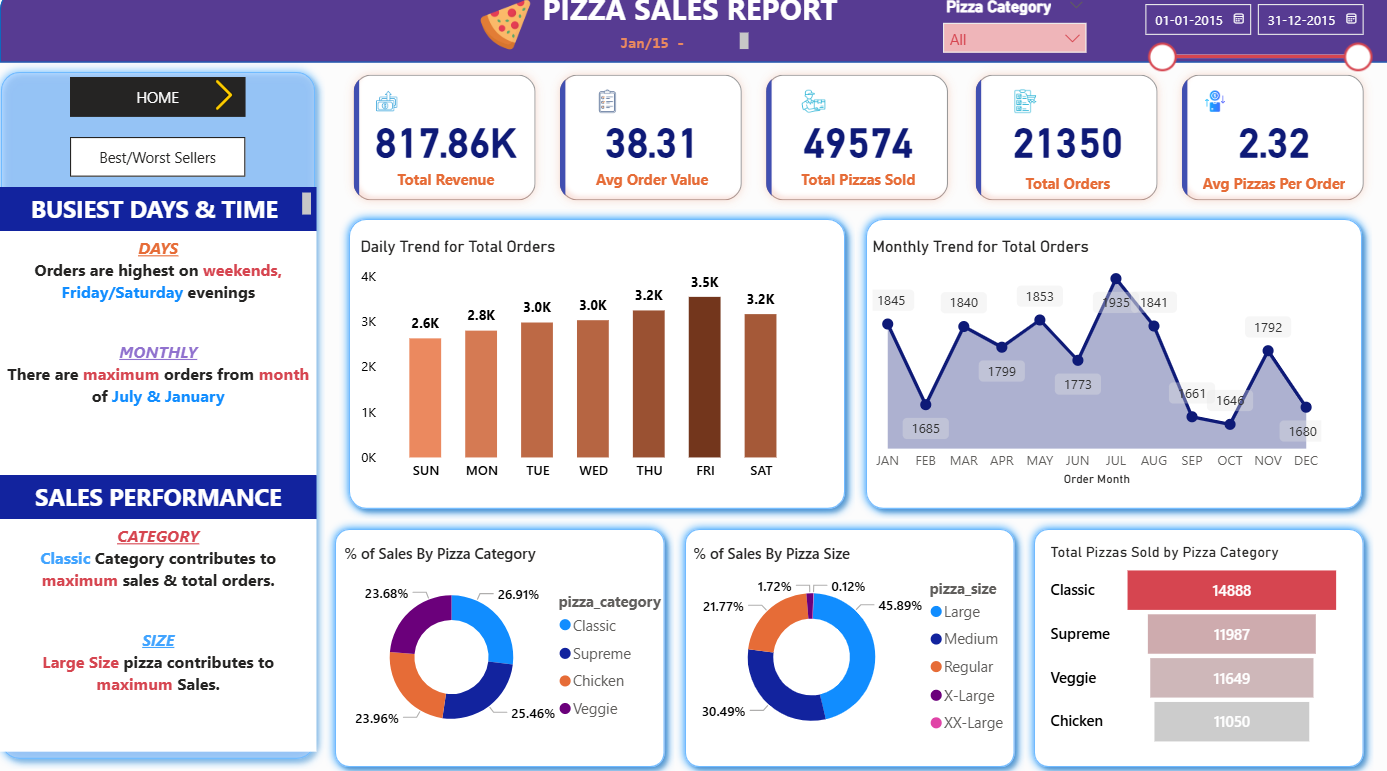

Layout of this report page (visuals, bound fields, positions):
{"tool":"powerbi","page":{"name":"HOME","canvas":[1280,720],"ordinal":0},"visuals":[{"type":"shape","box":[0,72,303,641],"z":0},{"type":"cardVisual","fields":{"Data":["pizza_sales.Total Revenue","pizza_sales.Avg Order Value","pizza_sales.Total Pizzas Sold"]},"box":[313,67,573,146],"z":1000},{"type":"cardVisual","fields":{"Data":["pizza_sales.Total Orders","pizza_sales.Avg Pizzas Per Order"]},"box":[877,67,384,146],"z":2000},{"type":"shape","box":[8,7,1261,65],"z":3000},{"type":"textbox","box":[495,0,289,48],"z":4000},{"type":"textbox","box":[565,40,127,27],"z":5000},{"type":"image","box":[438,7,57,60],"z":6000},{"type":"shape","box":[316,205,468,281],"z":7000},{"type":"columnChart","title":"Daily Trend for Total Orders","fields":{"Y":["pizza_sales.Total Orders"],"Category":["pizza_sales.Order Day"]},"box":[330,231,409,229],"z":8000},{"type":"shape","box":[784,205,468,281],"z":9000},{"type":"areaChart","title":"Monthly Trend for Total Orders","fields":{"Y":["pizza_sales.Total Orders"],"Category":["pizza_sales.Order Month"]},"box":[794,231,417,229],"z":10000},{"type":"shape","box":[303,486,317,234],"z":11000},{"type":"shape","box":[620,486,317,234],"z":12000},{"type":"shape","box":[937,486,317,234],"z":13000},{"type":"donutChart","title":"% of Sales By Pizza Category","fields":{"Category":["pizza_sales.pizza_category"],"Y":["pizza_sales.Total Revenue"]},"box":[316,509,304,188],"z":14000},{"type":"donutChart","title":"% of Sales By Pizza Size","fields":{"Y":["pizza_sales.Total Revenue"],"Category":["pizza_sales.pizza_size"]},"box":[632,509,304,188],"z":15000},{"type":"funnel","title":"Total Pizzas Sold by Pizza Category","fields":{"Y":["pizza_sales.Total Pizzas Sold"],"Category":["pizza_sales.pizza_category"]},"box":[956,509,274,188],"z":16000},{"type":"textbox","box":[8,185,287,40],"z":17000},{"type":"textbox","box":[8,225,287,222],"z":18000},{"type":"textbox","box":[8,446,287,40],"z":19000},{"type":"textbox","box":[8,486,287,211],"z":20000},{"type":"slicer","fields":{"Values":["pizza_sales.pizza_category"]},"box":[853,8,150,63],"z":21000},{"type":"slicer","fields":{"Values":["pizza_sales.order_date"]},"box":[1034,9,227,112],"z":22000},{"type":"pageNavigator","box":[72,140,159,36],"z":23000},{"type":"pageNavigator","box":[72,85,159,36],"z":24000},{"type":"image","box":[191.2,82.4,39.4,38.2],"z":25000}]}

Visuals, with their boxes in screenshot pixels (x1, y1, x2, y2), scaled from the page's 1280x720 canvas onto the 1387x771 screenshot:
shape: [left=0, top=77, right=328, bottom=764]
cardVisual - pizza_sales.Total Revenue x pizza_sales.Avg Order Value: [left=339, top=72, right=960, bottom=228]
cardVisual - pizza_sales.Total Orders x pizza_sales.Avg Pizzas Per Order: [left=950, top=72, right=1366, bottom=228]
shape: [left=9, top=7, right=1375, bottom=77]
textbox: [left=536, top=0, right=850, bottom=51]
textbox: [left=612, top=43, right=750, bottom=72]
image: [left=475, top=7, right=536, bottom=72]
shape: [left=342, top=220, right=850, bottom=520]
"Daily Trend for Total Orders" columnChart: [left=358, top=247, right=801, bottom=493]
shape: [left=850, top=220, right=1357, bottom=520]
"Monthly Trend for Total Orders" areaChart: [left=860, top=247, right=1312, bottom=493]
shape: [left=328, top=520, right=672, bottom=770]
shape: [left=672, top=520, right=1015, bottom=770]
shape: [left=1015, top=520, right=1359, bottom=770]
"% of Sales By Pizza Category" donutChart: [left=342, top=545, right=672, bottom=746]
"% of Sales By Pizza Size" donutChart: [left=685, top=545, right=1014, bottom=746]
"Total Pizzas Sold by Pizza Category" funnel: [left=1036, top=545, right=1333, bottom=746]
textbox: [left=9, top=198, right=320, bottom=241]
textbox: [left=9, top=241, right=320, bottom=479]
textbox: [left=9, top=478, right=320, bottom=520]
textbox: [left=9, top=520, right=320, bottom=746]
slicer - pizza_sales.pizza_category: [left=924, top=9, right=1087, bottom=76]
slicer - pizza_sales.order_date: [left=1120, top=10, right=1366, bottom=130]
pageNavigator: [left=78, top=150, right=250, bottom=188]
pageNavigator: [left=78, top=91, right=250, bottom=130]
image: [left=207, top=88, right=250, bottom=129]
